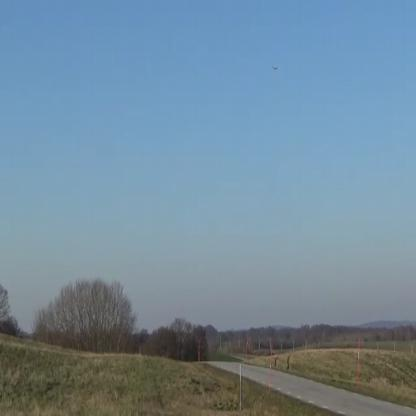CIV_Plane: (270, 61, 280, 73)
